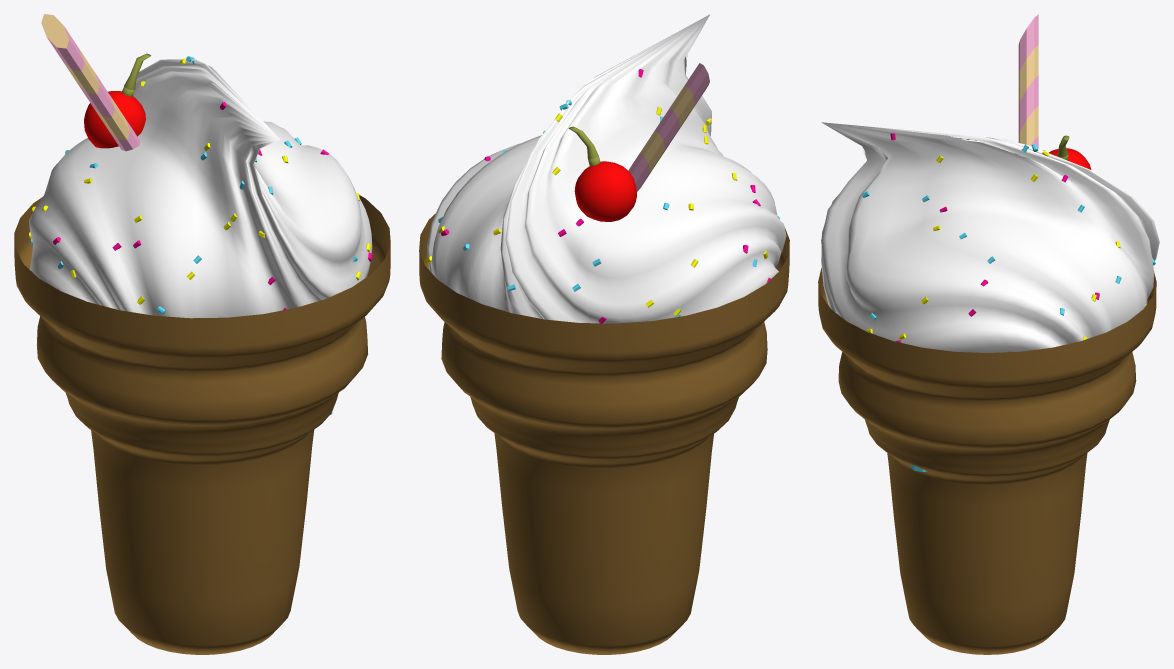
Rendered from scene_icec.glb.
3 views of the same model, side by side, from view 1: azimuth 30°, elevation 25°; view 2: azimuth 150°, elevation 25°; view 3: azimuth 270°, elevation 25° (orthographic). The views are drawn at different scales.
Parts seen in each view (by area): view 1: Vert_0, Sphere_1, Cylinder.003_103, Icosphere_2; view 2: Vert_0, Sphere_1, Icosphere_2, Cylinder.003_103; view 3: Vert_0, Sphere_1, Cylinder.003_103, Icosphere_2.
Boxes of the visible parts, x1,y1,x2,y2 form: Vert_0: (14,195,390,654); Sphere_1: (29,59,372,318); Cylinder.003_103: (41,14,140,151); Icosphere_2: (84,53,150,148); Vert_0: (419,214,789,654); Sphere_1: (427,14,786,323); Icosphere_2: (568,126,636,221); Cylinder.003_103: (628,63,709,191); Vert_0: (818,268,1156,654); Sphere_1: (821,122,1159,352); Cylinder.003_103: (1018,14,1038,148); Icosphere_2: (1049,135,1091,169).
Size of the model in its own units: 1.81 by 3.29 by 1.83.
